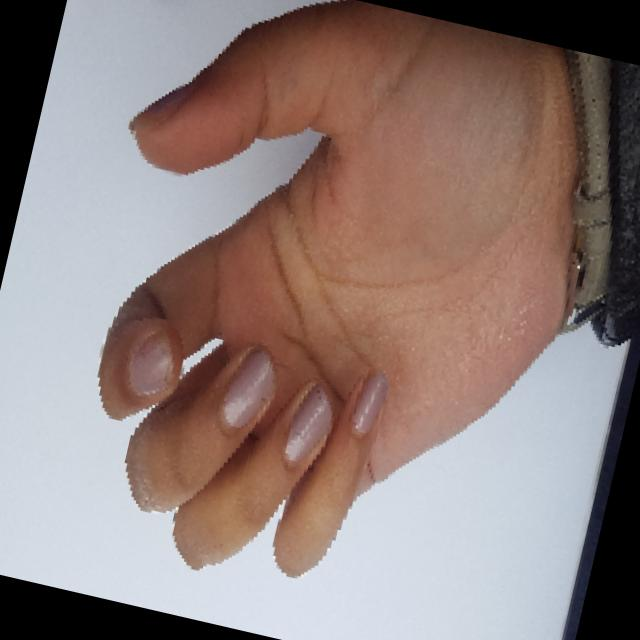Nail: (219, 346, 275, 427), (283, 384, 331, 462), (129, 82, 192, 135), (127, 332, 171, 396), (349, 372, 387, 433)
